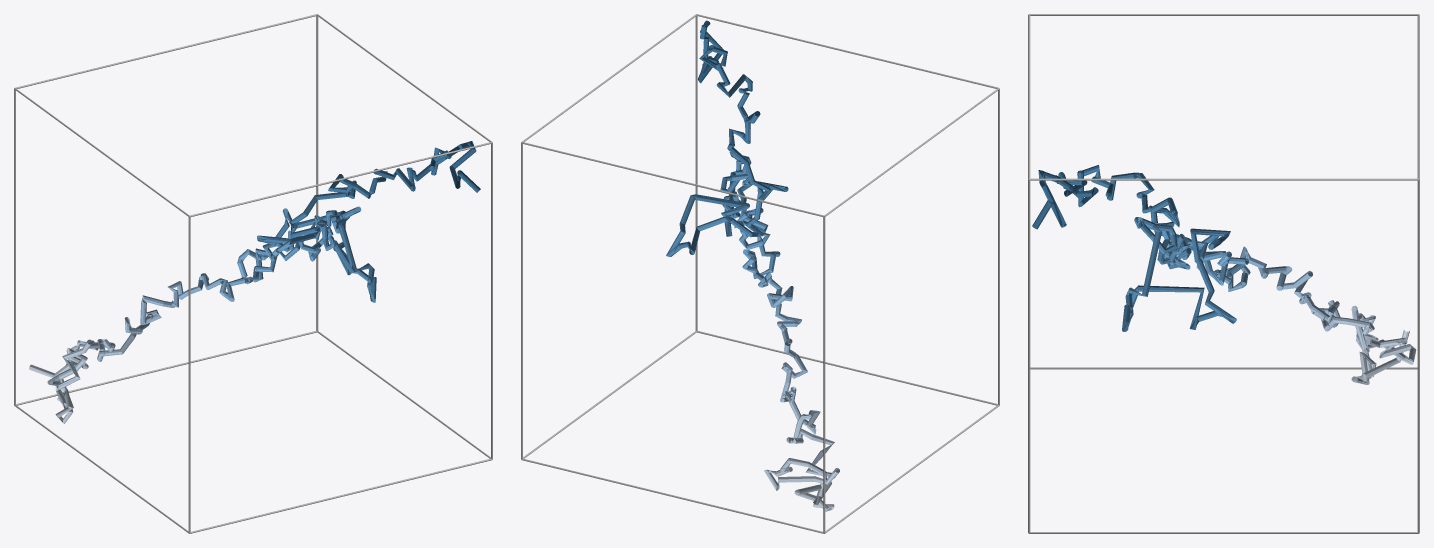
The picture shows the model from 3 angles, left to right: view 1: azimuth 30°, elevation 25°; view 2: azimuth 150°, elevation 25°; view 3: azimuth 270°, elevation 25°; orthographic projection. The views are drawn at different scales.
Visible parts, largest first — view 1: geometry_0, geometry_1; view 2: geometry_0, geometry_1; view 3: geometry_0, geometry_1.
Part boxes in pixels (box(x1,y1,x2,y2)): geometry_0: box(29, 141, 480, 423); geometry_1: box(14, 14, 492, 533); geometry_0: box(666, 20, 839, 511); geometry_1: box(521, 14, 999, 533); geometry_0: box(1032, 165, 1416, 384); geometry_1: box(1028, 14, 1419, 533).
Bounding box in the file's own units: 0.3016 × 0.3037 × 0.3016.
